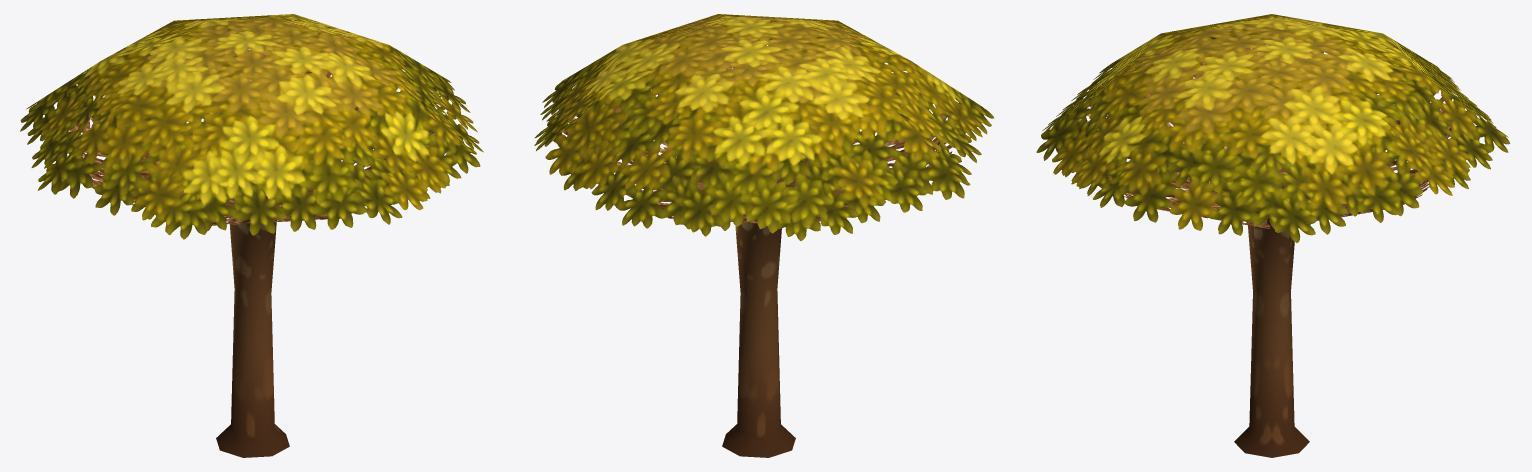
The model's file is Tree_05a.FBX.
The picture shows the model from 3 angles, left to right: view 1: azimuth 30°, elevation 25°; view 2: azimuth 150°, elevation 25°; view 3: azimuth 270°, elevation 25°; orthographic projection.
Parts seen in each view (by area): view 1: Tree_05a; view 2: Tree_05a; view 3: Tree_05a.
Boxes of the visible parts, left/top/right/bottom form: Tree_05a: left=20, top=14, right=483, bottom=457; Tree_05a: left=534, top=14, right=993, bottom=457; Tree_05a: left=1036, top=14, right=1510, bottom=457.
Size of the model in its own units: 88.51 by 78.4 by 88.51.
